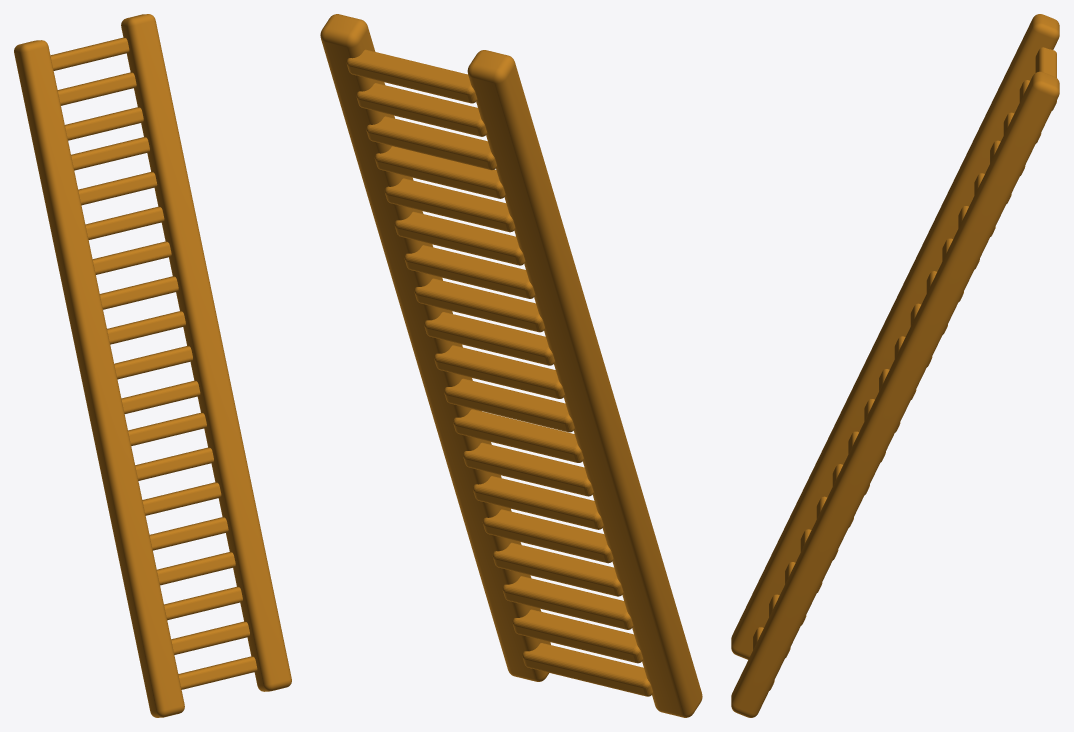
File: m_ladder_v2.fbx
3 renders of one model, left to right at view 1: azimuth 30°, elevation 25°; view 2: azimuth 150°, elevation 25°; view 3: azimuth 270°, elevation 25°, orthographic. The views are drawn at different scales.
Visible parts, largest first — view 1: Plane.014; view 2: Plane.014; view 3: Plane.014.
Boxes of the visible parts, x1=… form: Plane.014: x1=14, y1=14, x2=291, y2=717; Plane.014: x1=320, y1=14, x2=702, y2=717; Plane.014: x1=731, y1=14, x2=1059, y2=717.
Bounding box in the file's own units: 25.9 × 106 × 49.6.
